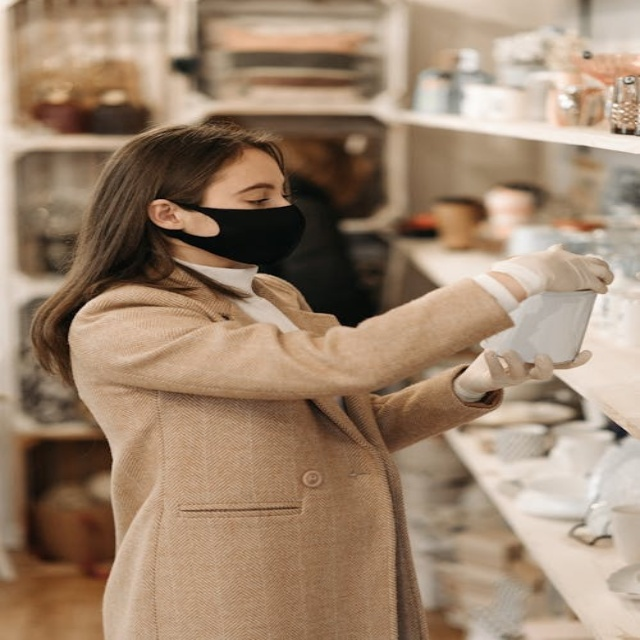Guantes: (451, 345, 590, 406), (479, 244, 616, 302)
Mascara: (160, 201, 306, 266)
Sin_gafas: (209, 177, 297, 208)
